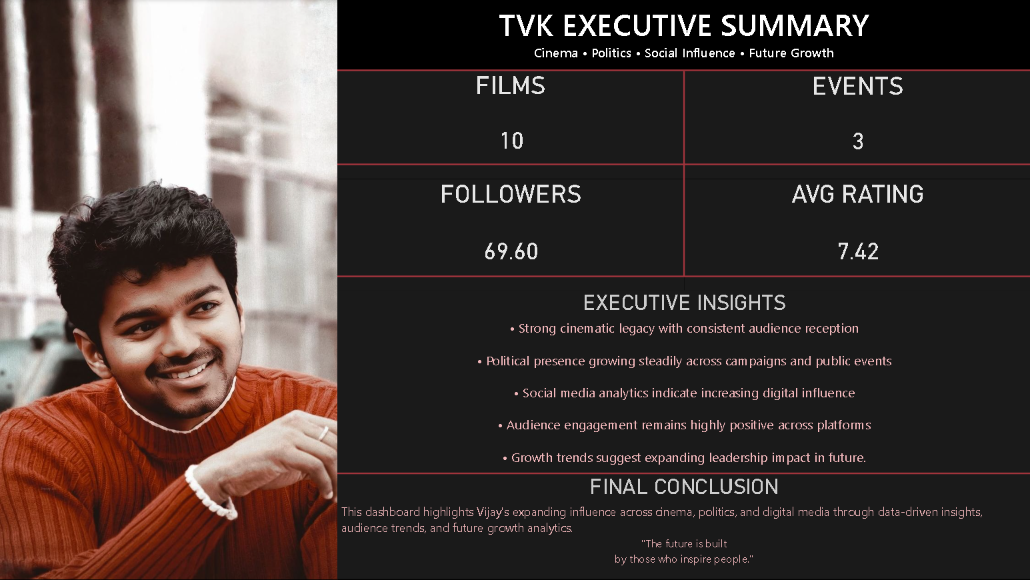

What the dashboard file says about the page in this screenshot:
{"tool":"powerbi","page":{"name":"Executive summary","canvas":[1280,720],"ordinal":4},"visuals":[{"type":"image","box":[0,0,419.4,719.2],"z":0},{"type":"textbox","box":[419.4,0,860.1,60.6],"z":1},{"type":"textbox","box":[419.4,50,860.1,37.9],"z":2},{"type":"card","title":"FILMS","fields":{"Values":["CountNonNull(Filmography.MovieID)"]},"box":[419.4,87.8,430,134.8],"z":3},{"type":"card","title":"AVG RATING","fields":{"Values":["Avg(Filmography.IMDb)"]},"box":[849.5,222.6,430,137.8],"z":4},{"type":"card","title":"FOLLOWERS","fields":{"Values":["Sum(social_media.FollowersMillions)"]},"box":[419.4,222.6,430,137.8],"z":5},{"type":"card","title":"EVENTS","fields":{"Values":["CountNonNull(political_event.EventID)"]},"box":[849.5,89.3,430,133.3],"z":6},{"type":"textbox","title":"EXECUTIVE INSIGHTS","box":[419.4,360.4,860.1,228.6],"z":7},{"type":"shape","box":[419.4,325.6,860.1,34.8],"z":8},{"type":"shape","box":[826.8,89.3,43.9,254.4],"z":9},{"type":"shape","box":[419.4,60.6,860.1,54.5],"z":10},{"type":"textbox","title":"FINAL CONCLUSION","box":[419.4,589,860.1,130.2],"z":11},{"type":"shape","box":[419.4,570.9,860.1,34.8],"z":12},{"type":"shape","box":[419.4,187.8,860.1,34.8],"z":13}]}

Visuals, with their boxes in screenshot pixels (x1, y1, x2, y2), scaled from the page's 1280x720 canvas onto the 1030x580 screenshot:
image: 0/0/337/579
textbox: 337/0/1029/49
textbox: 337/40/1029/71
"FILMS" card: 337/71/684/179
"AVG RATING" card: 684/179/1029/290
"FOLLOWERS" card: 337/179/684/290
"EVENTS" card: 684/72/1029/179
"EXECUTIVE INSIGHTS" textbox: 337/290/1029/474
shape: 337/262/1029/290
shape: 665/72/701/277
shape: 337/49/1029/93
"FINAL CONCLUSION" textbox: 337/474/1029/579
shape: 337/460/1029/488
shape: 337/151/1029/179
